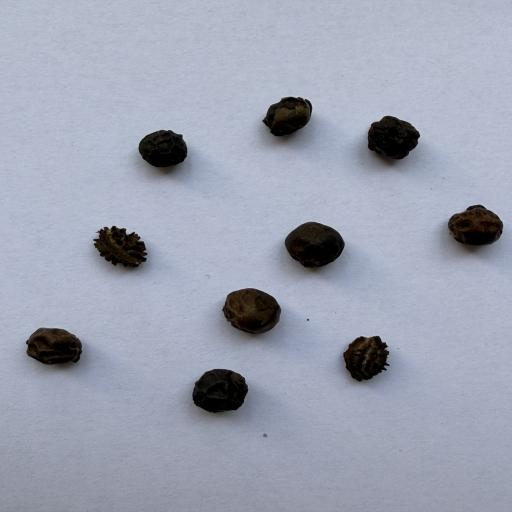Black_pepper: (216, 283, 290, 340), (281, 218, 350, 272), (185, 364, 254, 417), (362, 109, 424, 163), (132, 125, 200, 171), (21, 322, 84, 366), (256, 94, 322, 135), (449, 201, 504, 248)
papaya_seed: (324, 308, 406, 384), (86, 209, 168, 280)
